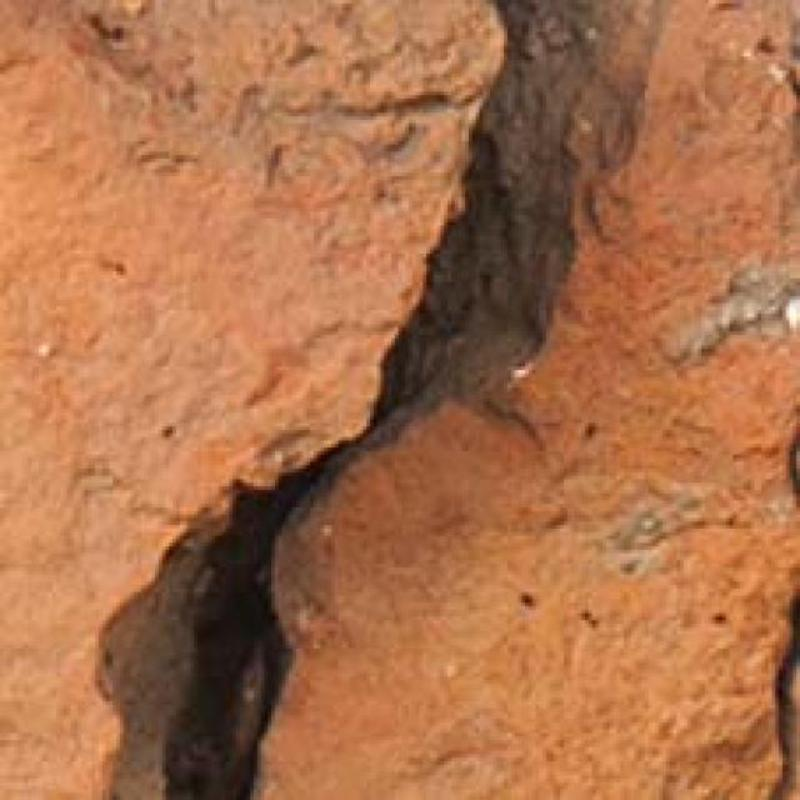pothole: (102, 1, 612, 799), (768, 592, 799, 799), (781, 430, 799, 509)
